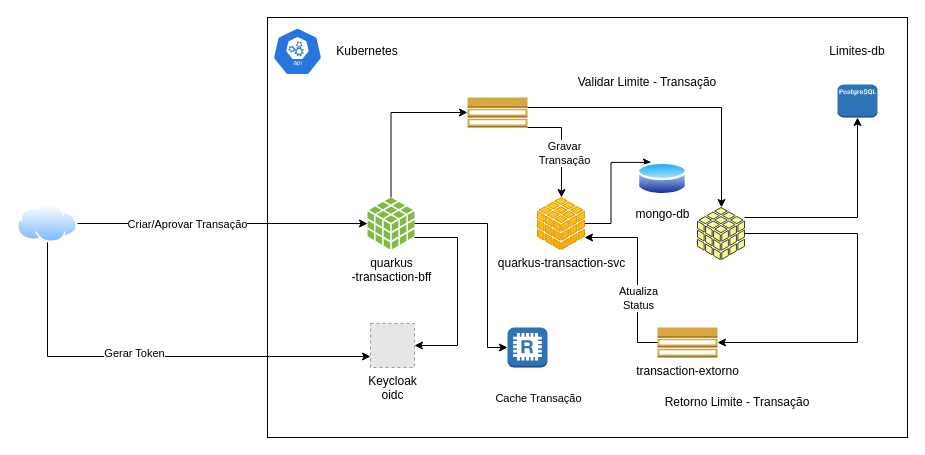
This 925x455 diagram has some shape labels left out. Grey dashed boxes stand in for pictures. The shapes that lost their labels are listed below. From the top down, each one's box as (x1, y1, x2, y2) in pixels, then its label:
(466, 96, 528, 128): transaction
(696, 206, 744, 260): quarkus-limites-svc
(506, 326, 548, 368): Redis
